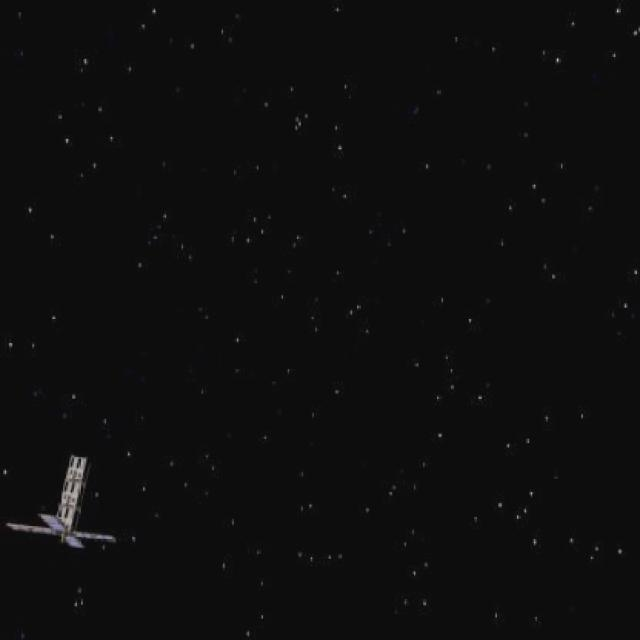satellite: (2, 450, 138, 563)
